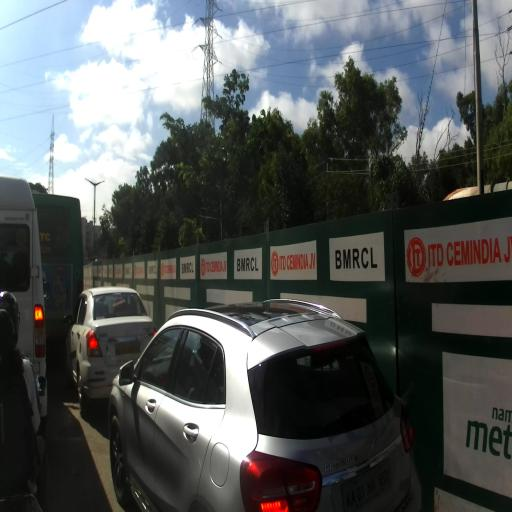street_light_0: (85, 178, 96, 188), (94, 180, 105, 188)
